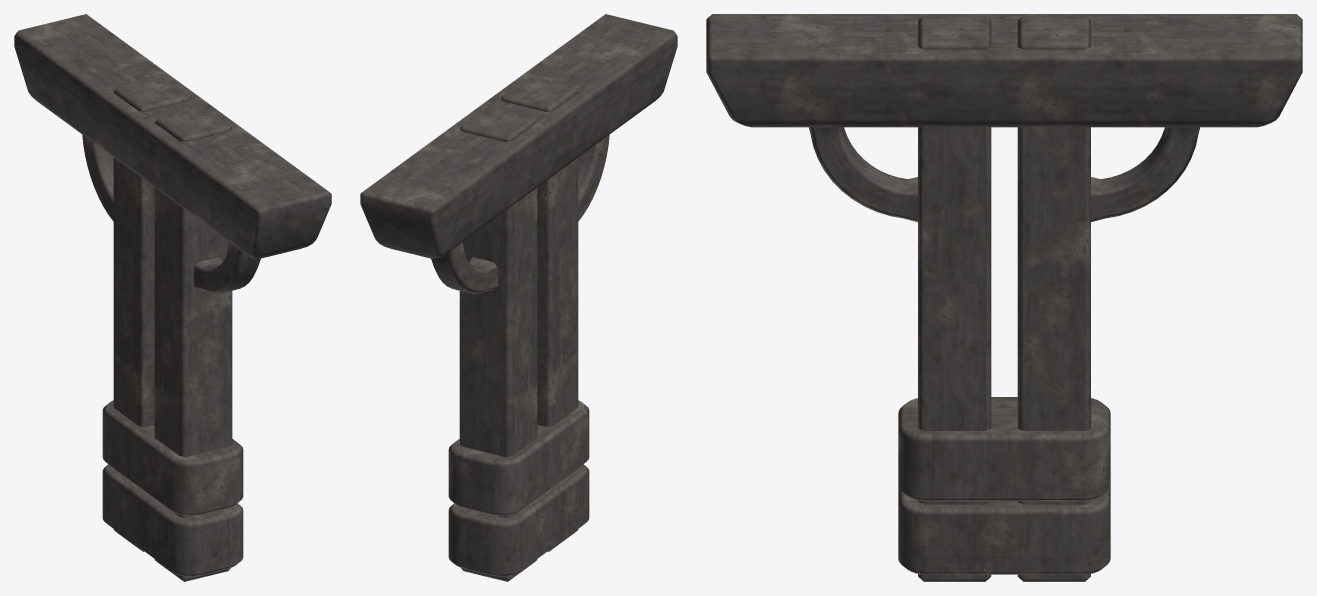
File: msp_column_tall.fbx
The picture shows the model from 3 angles, left to right: view 1: azimuth 30°, elevation 25°; view 2: azimuth 150°, elevation 25°; view 3: azimuth 270°, elevation 25°; orthographic projection. The views are drawn at different scales.
Visible parts, largest first — view 1: msp_column_tall; view 2: msp_column_tall; view 3: msp_column_tall.
Part boxes in pixels (box(x1,y1,x2,y2)): msp_column_tall: box(14, 14, 331, 581); msp_column_tall: box(360, 14, 677, 581); msp_column_tall: box(706, 14, 1302, 581).
Size of the model in its own units: 1.79 by 10 by 10.
